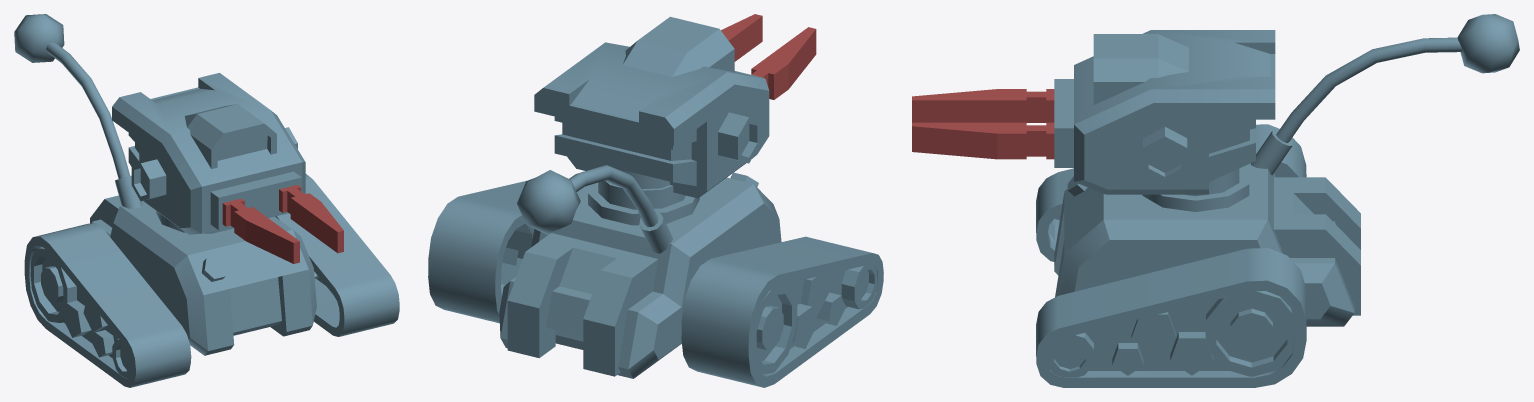
Rendered from SK_Drone (2).fbx.
The picture shows the model from 3 angles, left to right: view 1: azimuth 30°, elevation 25°; view 2: azimuth 150°, elevation 25°; view 3: azimuth 270°, elevation 25°; orthographic projection. The views are drawn at different scales.
Visible parts, largest first — view 1: Body, Head, Tooth; view 2: Body, Head, Tooth; view 3: Body, Head, Tooth.
Part boxes in pixels (<box>): Body: <box>14,14,399,387</box>; Head: <box>112,73,305,234</box>; Tooth: <box>222,185,343,263</box>; Body: <box>428,165,883,387</box>; Head: <box>534,16,769,198</box>; Tooth: <box>721,14,816,99</box>; Body: <box>1036,14,1519,387</box>; Head: <box>1054,30,1275,194</box>; Tooth: <box>912,89,1054,159</box>.
Bounding box in the file's own units: 84.11 × 67.87 × 138.
